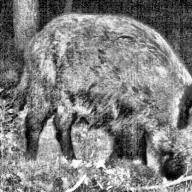boar: (4, 8, 192, 178)
